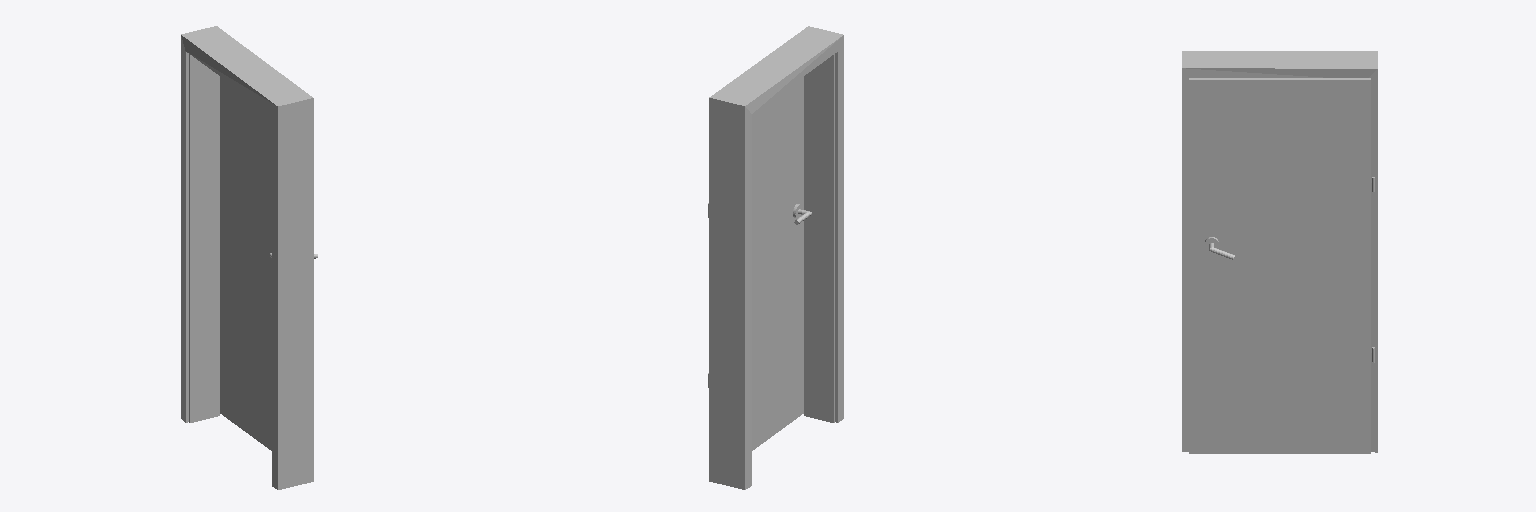
Rendered from door49.obj.
The picture shows the model from 3 angles: view 1: azimuth 30°, elevation 25°; view 2: azimuth 150°, elevation 25°; view 3: azimuth 270°, elevation 25°; orthographic projection.
Visible parts, largest first — view 1: Cylinder.005, Cylinder.001; view 2: Cylinder.005, Cylinder.001; view 3: Cylinder.001, Cylinder.005.
Part boxes in pixels (x1,y1,x2,y2): Cylinder.005: (181, 26, 313, 489); Cylinder.001: (220, 77, 271, 450); Cylinder.005: (708, 26, 843, 489); Cylinder.001: (708, 77, 803, 450); Cylinder.001: (1189, 78, 1374, 453); Cylinder.005: (1182, 51, 1377, 452).
Bounding box in the file's own units: 0.3039 × 2.05 × 0.95.